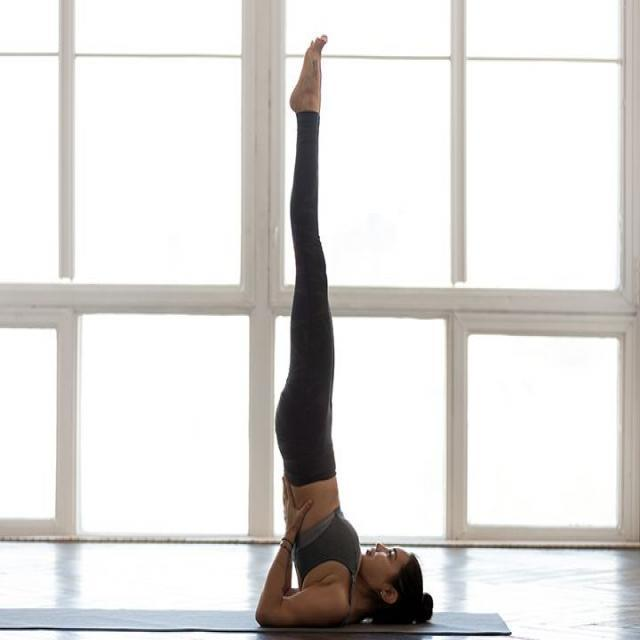yoga-pose shoulderstand: (253, 26, 433, 638)
